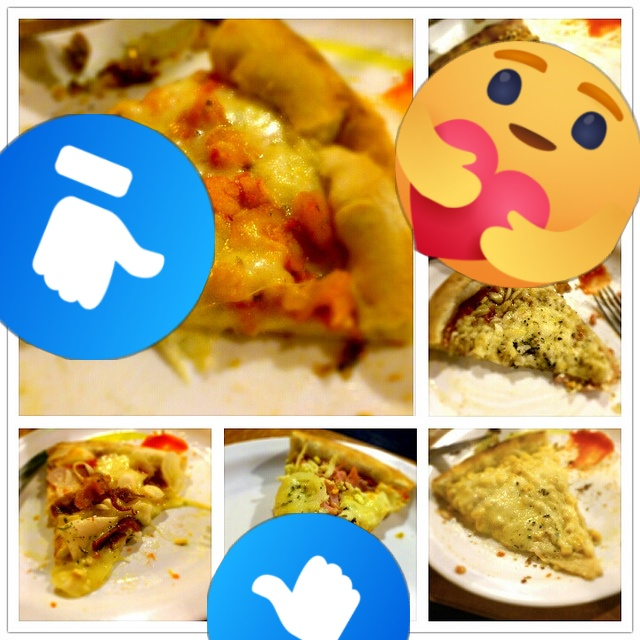care: (395, 41, 640, 288)
like: (0, 114, 215, 360), (207, 513, 410, 640)
